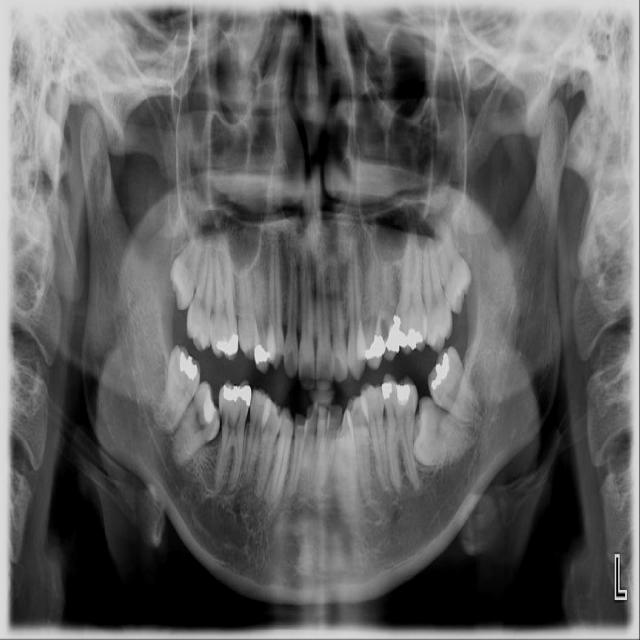Filling: (384, 313, 424, 357), (219, 381, 253, 407), (380, 381, 414, 406), (198, 385, 219, 425), (430, 351, 451, 390), (362, 332, 386, 361), (215, 333, 239, 359), (179, 352, 199, 380), (253, 342, 270, 366)
impacted tooth: (143, 346, 202, 429), (169, 383, 223, 468), (429, 345, 488, 421), (413, 398, 478, 464), (431, 213, 473, 314), (171, 221, 206, 309)
